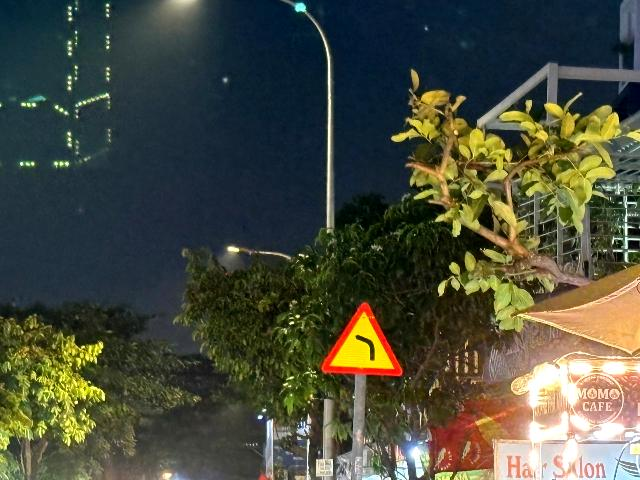cho-ngoat-nguy-hiem-ben-trai: (321, 301, 403, 377)
